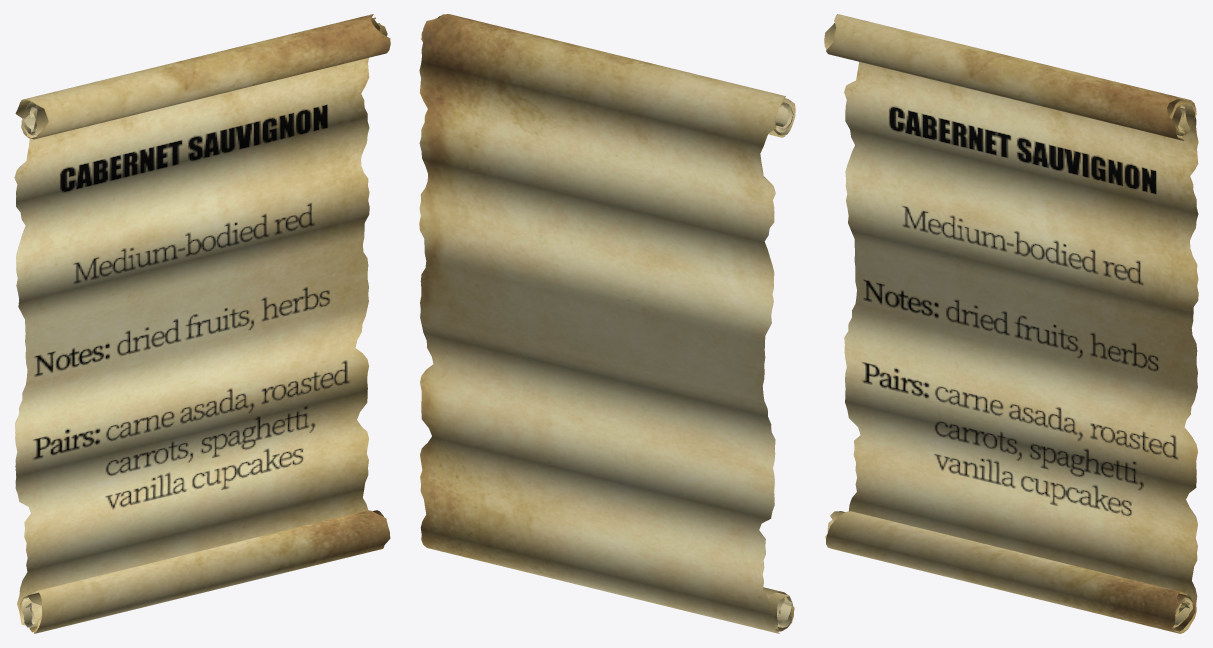
Rendered from Scroll3.glb.
3 views of the same model, side by side, from view 1: azimuth 30°, elevation 25°; view 2: azimuth 150°, elevation 25°; view 3: azimuth 330°, elevation 25° (orthographic).
Parts seen in each view (by area): view 1: Scroll; view 2: Scroll; view 3: Scroll.
Part boxes in pixels (bbox=[...]): Scroll: bbox=[14, 14, 390, 633]; Scroll: bbox=[419, 14, 795, 633]; Scroll: bbox=[824, 14, 1198, 633].
Bounding box in the file's own units: 0.0709 × 0.1014 × 0.00775.
Materials: 1 (1 with a texture image).
